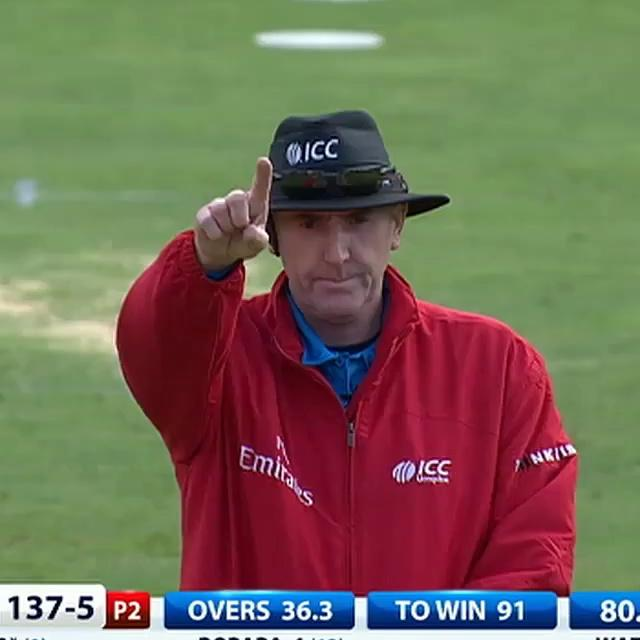umpire: (94, 73, 622, 593)
